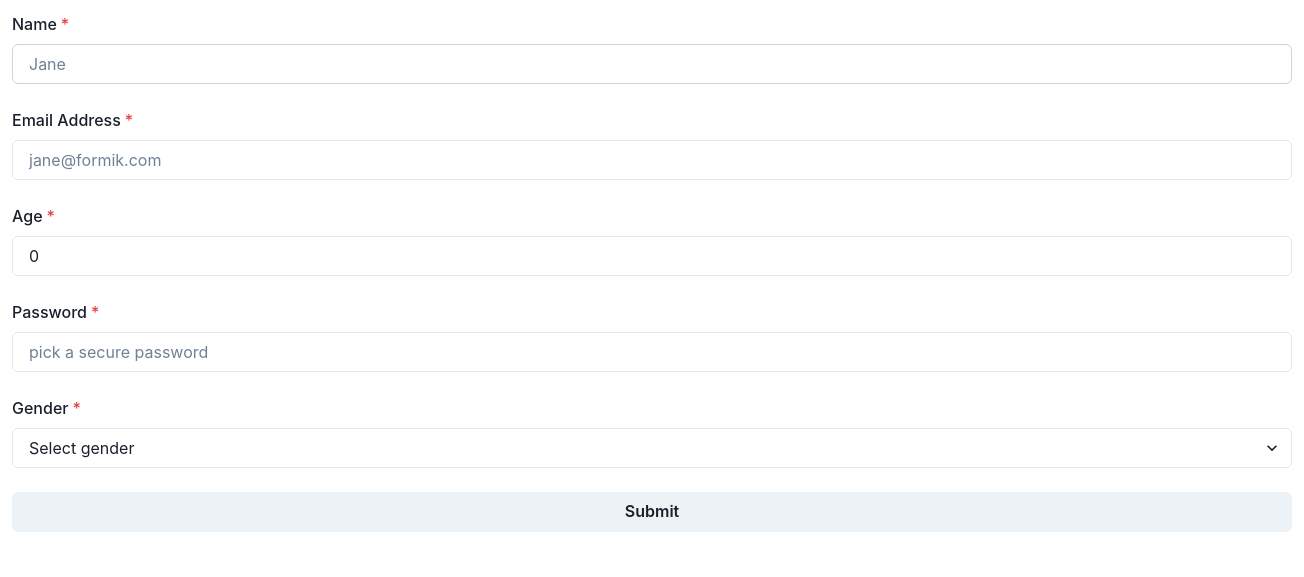
CreateCustomerForm › shows a taken email under the email field
Type "Alex" into the field labelled "Name*" at {"x": 652, "y": 64}, box x1=12 y1=44 x2=1292 y2=84
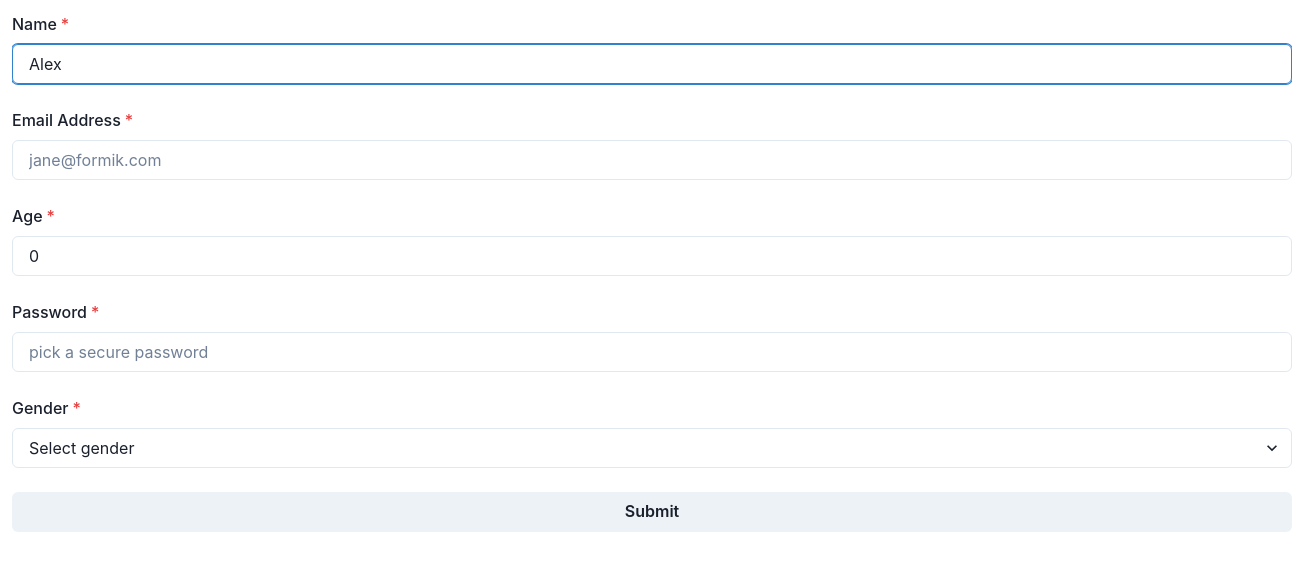
Type "alex@clientele.dev" into the field labelled "Email Address*" at {"x": 652, "y": 160}, box x1=12 y1=140 x2=1292 y2=180
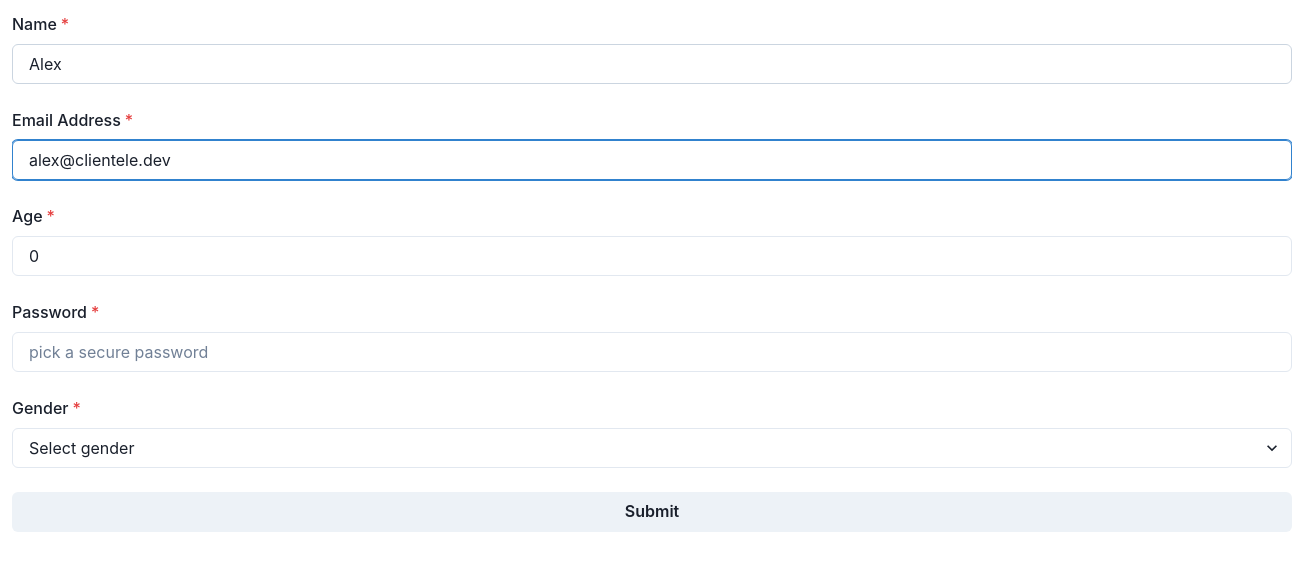
Replace the text in the number field labelled "Age*" with "30" at {"x": 652, "y": 256}, box x1=12 y1=236 x2=1292 y2=276
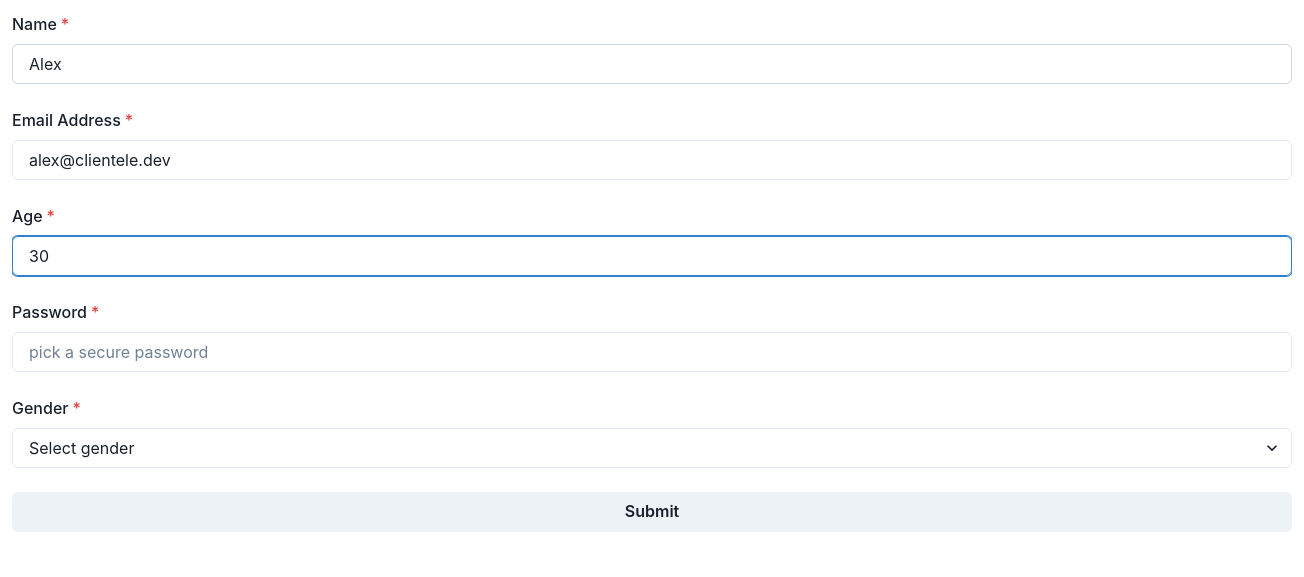
Type "password" into the password field labelled "Password*" at {"x": 652, "y": 352}, box x1=12 y1=332 x2=1292 y2=372
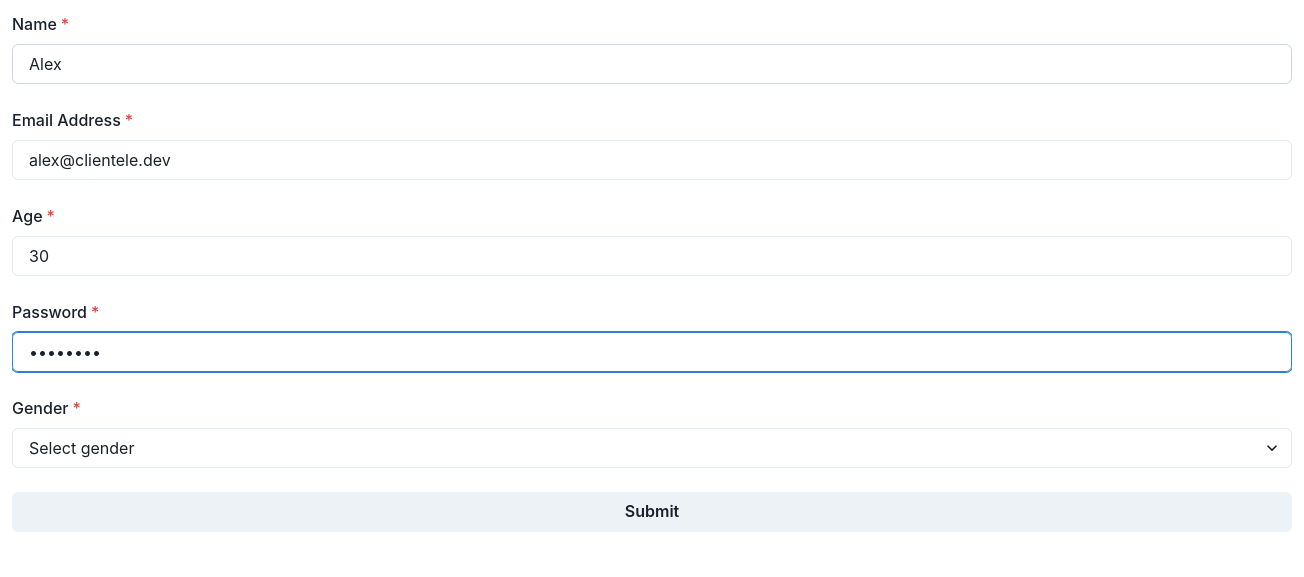
Select "Female" in the dropdown labelled "Gender*" at {"x": 652, "y": 448}, box x1=12 y1=428 x2=1292 y2=468
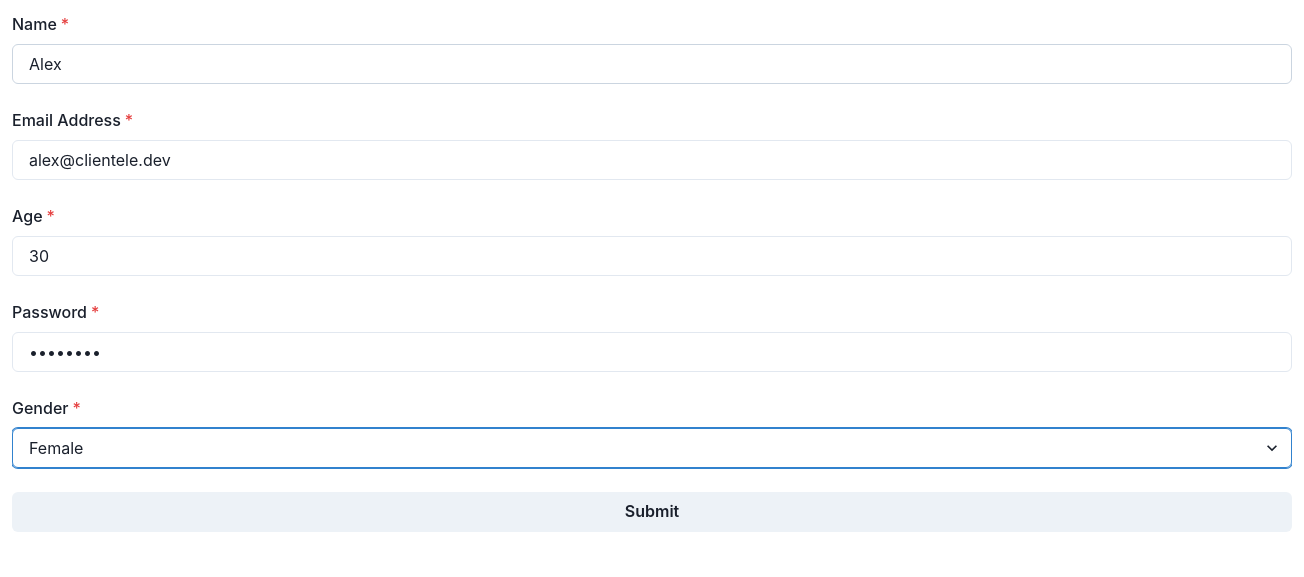
Click the button "Submit" at {"x": 652, "y": 512}, box x1=12 y1=492 x2=1292 y2=532
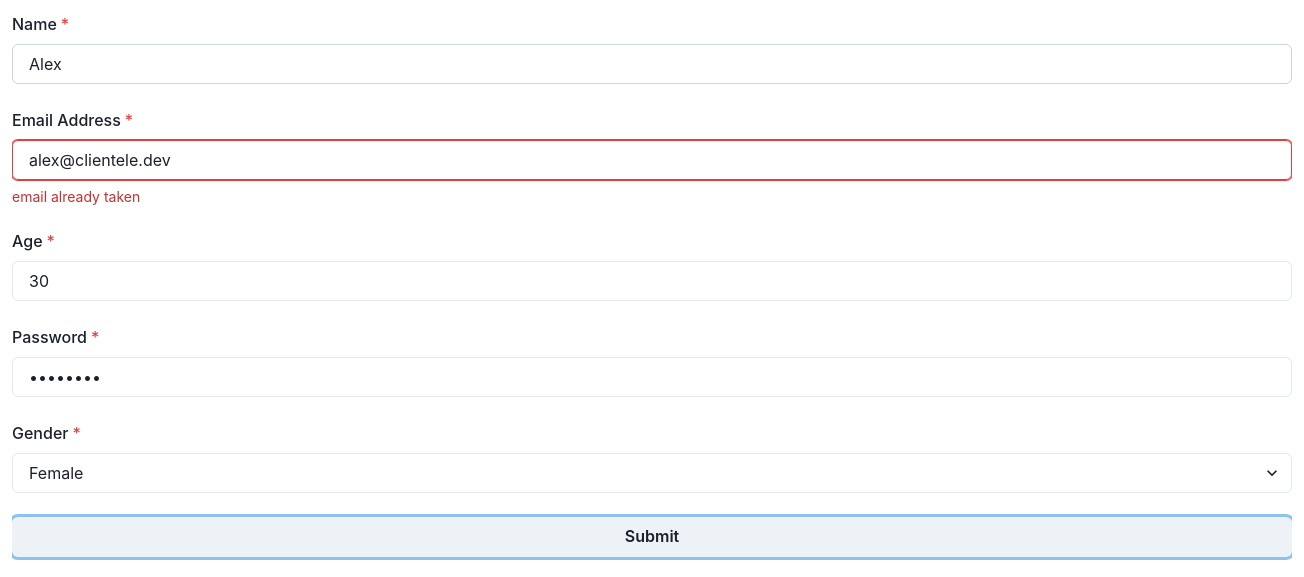
Check: the text "email already taken" is shown, box x1=12 y1=188 x2=140 y2=205
